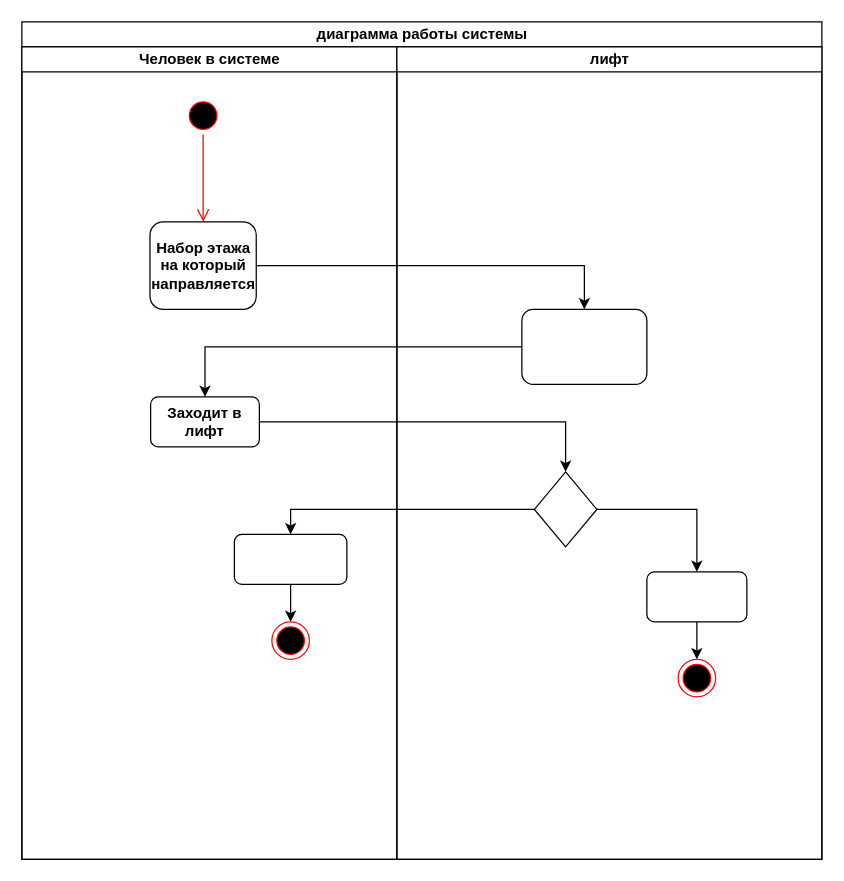
Some shapes in this 844 by 881 pixel diagram are drawn without their labels. Each missing label, with the centre of its shape:
"Едет на набранный этаж" belongs at [696,596].
"Едет на этаж с которого человек набрал нужный этаж" belongs at [584,346].
"Сообщение о перегрузке" belongs at [290,558].
